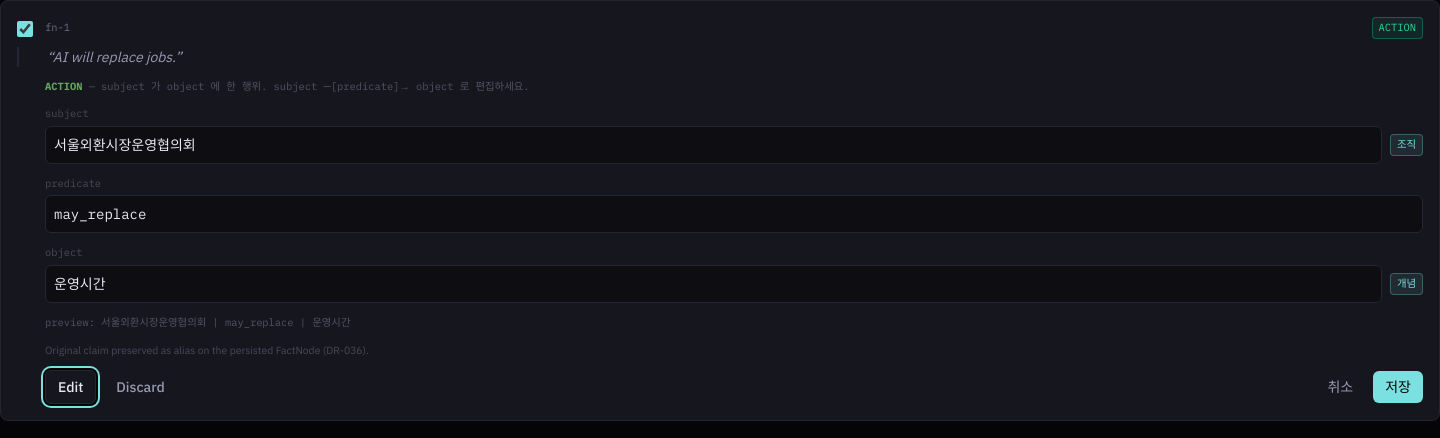
FactCard - decide-ux-v2 (4): claim preservation after save › view-mode claim renders the ORIGINAL sentence, not pipe-joined S|P|O
The image size is (1440, 438).
Click the button with test id "fact-save-fn-1".
click(1398, 387)  # box [1373,371,1423,403]
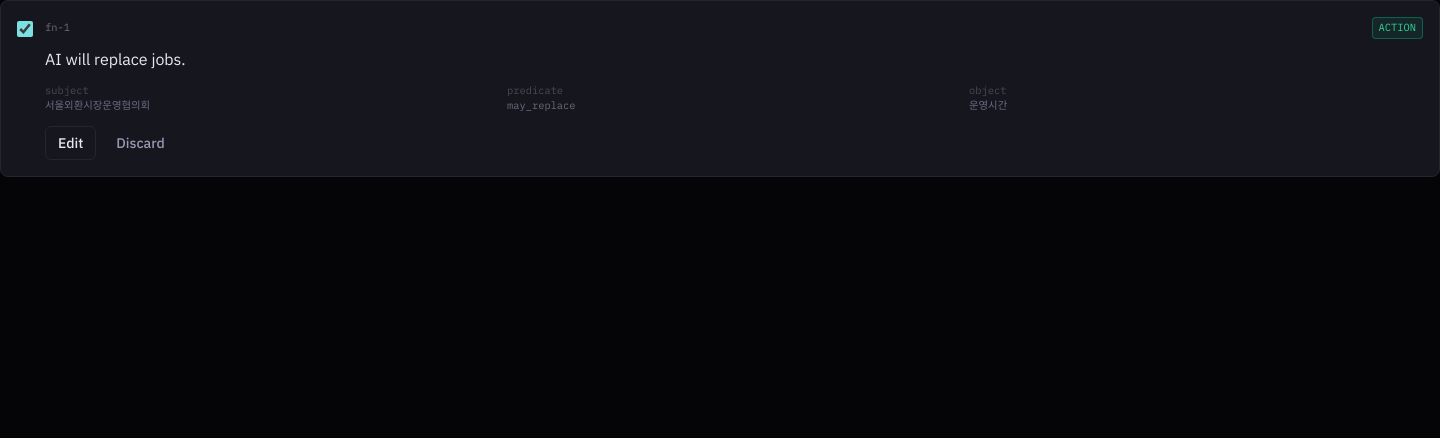
Expected: the text with test id "fact-claim-fn-1" reads "AI will replace jobs.", [45,49,186,69]
Expected: the text with test id "fact-claim-fn-1" no longer shows "|"
